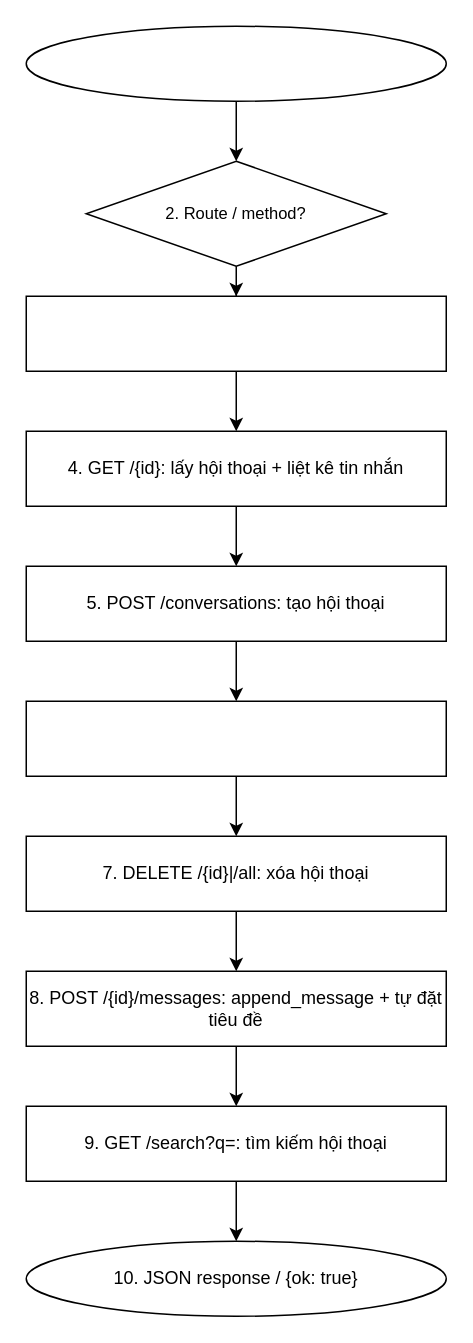
Image size: 473x1343. Some labels were removed from this diagram. Each missing label, with the centre of its shape:
"1. Người dùng: /api/chat/conversations/*" belongs at pixel 235 63.
"3. GET /conversations: repository.liệt kê hội thoại" belongs at pixel 235 333.
"6. PUT /{id}: rename_conversation" belongs at pixel 235 738.
